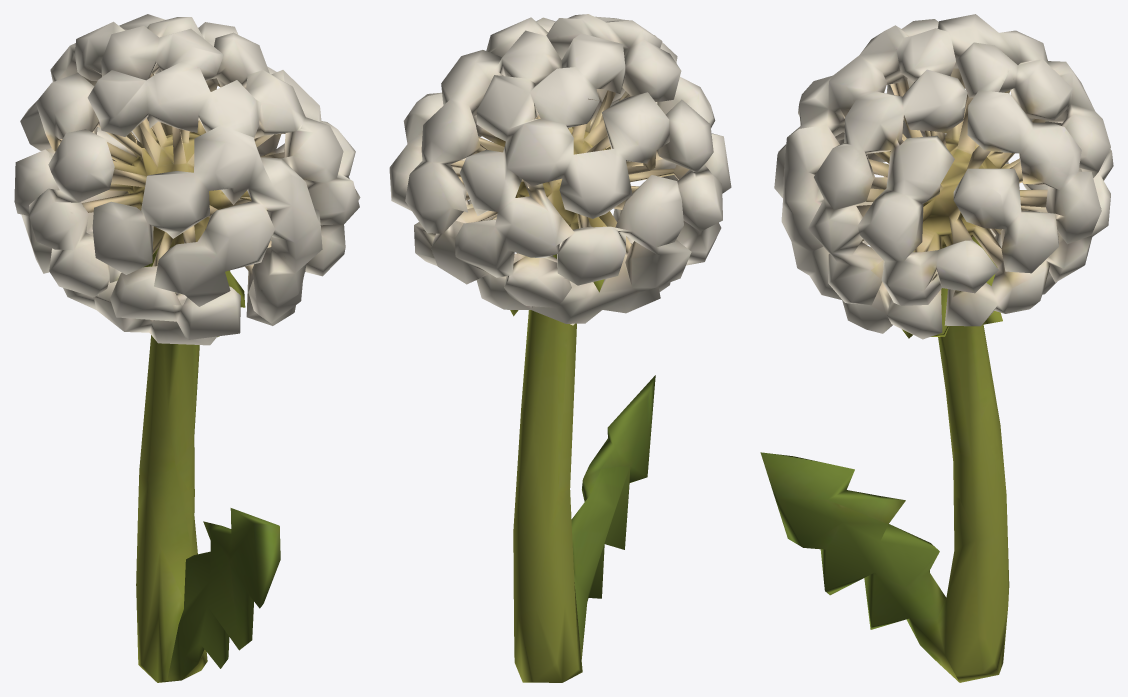
Rendered from tree-dandelion.glb.
3 views of the same model, side by side, from view 1: azimuth 30°, elevation 25°; view 2: azimuth 150°, elevation 25°; view 3: azimuth 270°, elevation 25° (orthographic). The views are drawn at different scales.
Visible parts, largest first — view 1: tripo_node_f74c8769-982e-4f6c-b7c8-033f0d1f4db8; view 2: tripo_node_f74c8769-982e-4f6c-b7c8-033f0d1f4db8; view 3: tripo_node_f74c8769-982e-4f6c-b7c8-033f0d1f4db8.
Part boxes in pixels (x1,y1,x2,y2): tripo_node_f74c8769-982e-4f6c-b7c8-033f0d1f4db8: (14,14,360,682); tripo_node_f74c8769-982e-4f6c-b7c8-033f0d1f4db8: (389,14,731,682); tripo_node_f74c8769-982e-4f6c-b7c8-033f0d1f4db8: (760,14,1113,682).
Bounding box in the file's own units: 0.4943 × 1 × 0.5036.
Materials: 1 (1 with a texture image).
